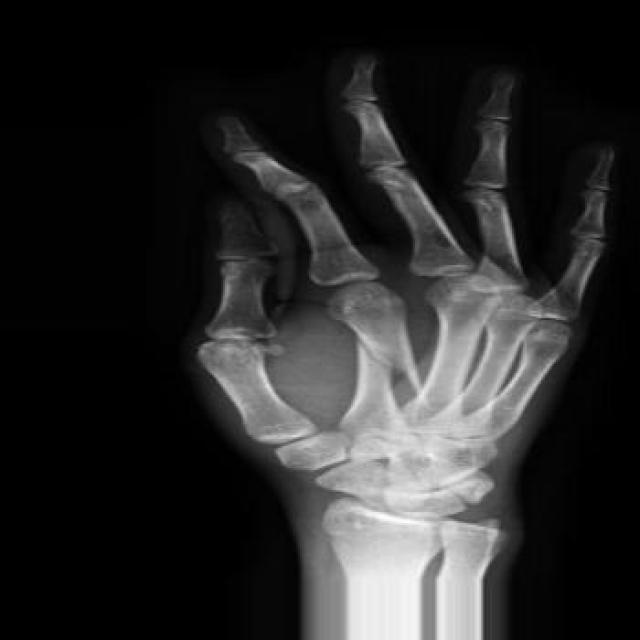Fracture: (334, 329, 408, 370)
